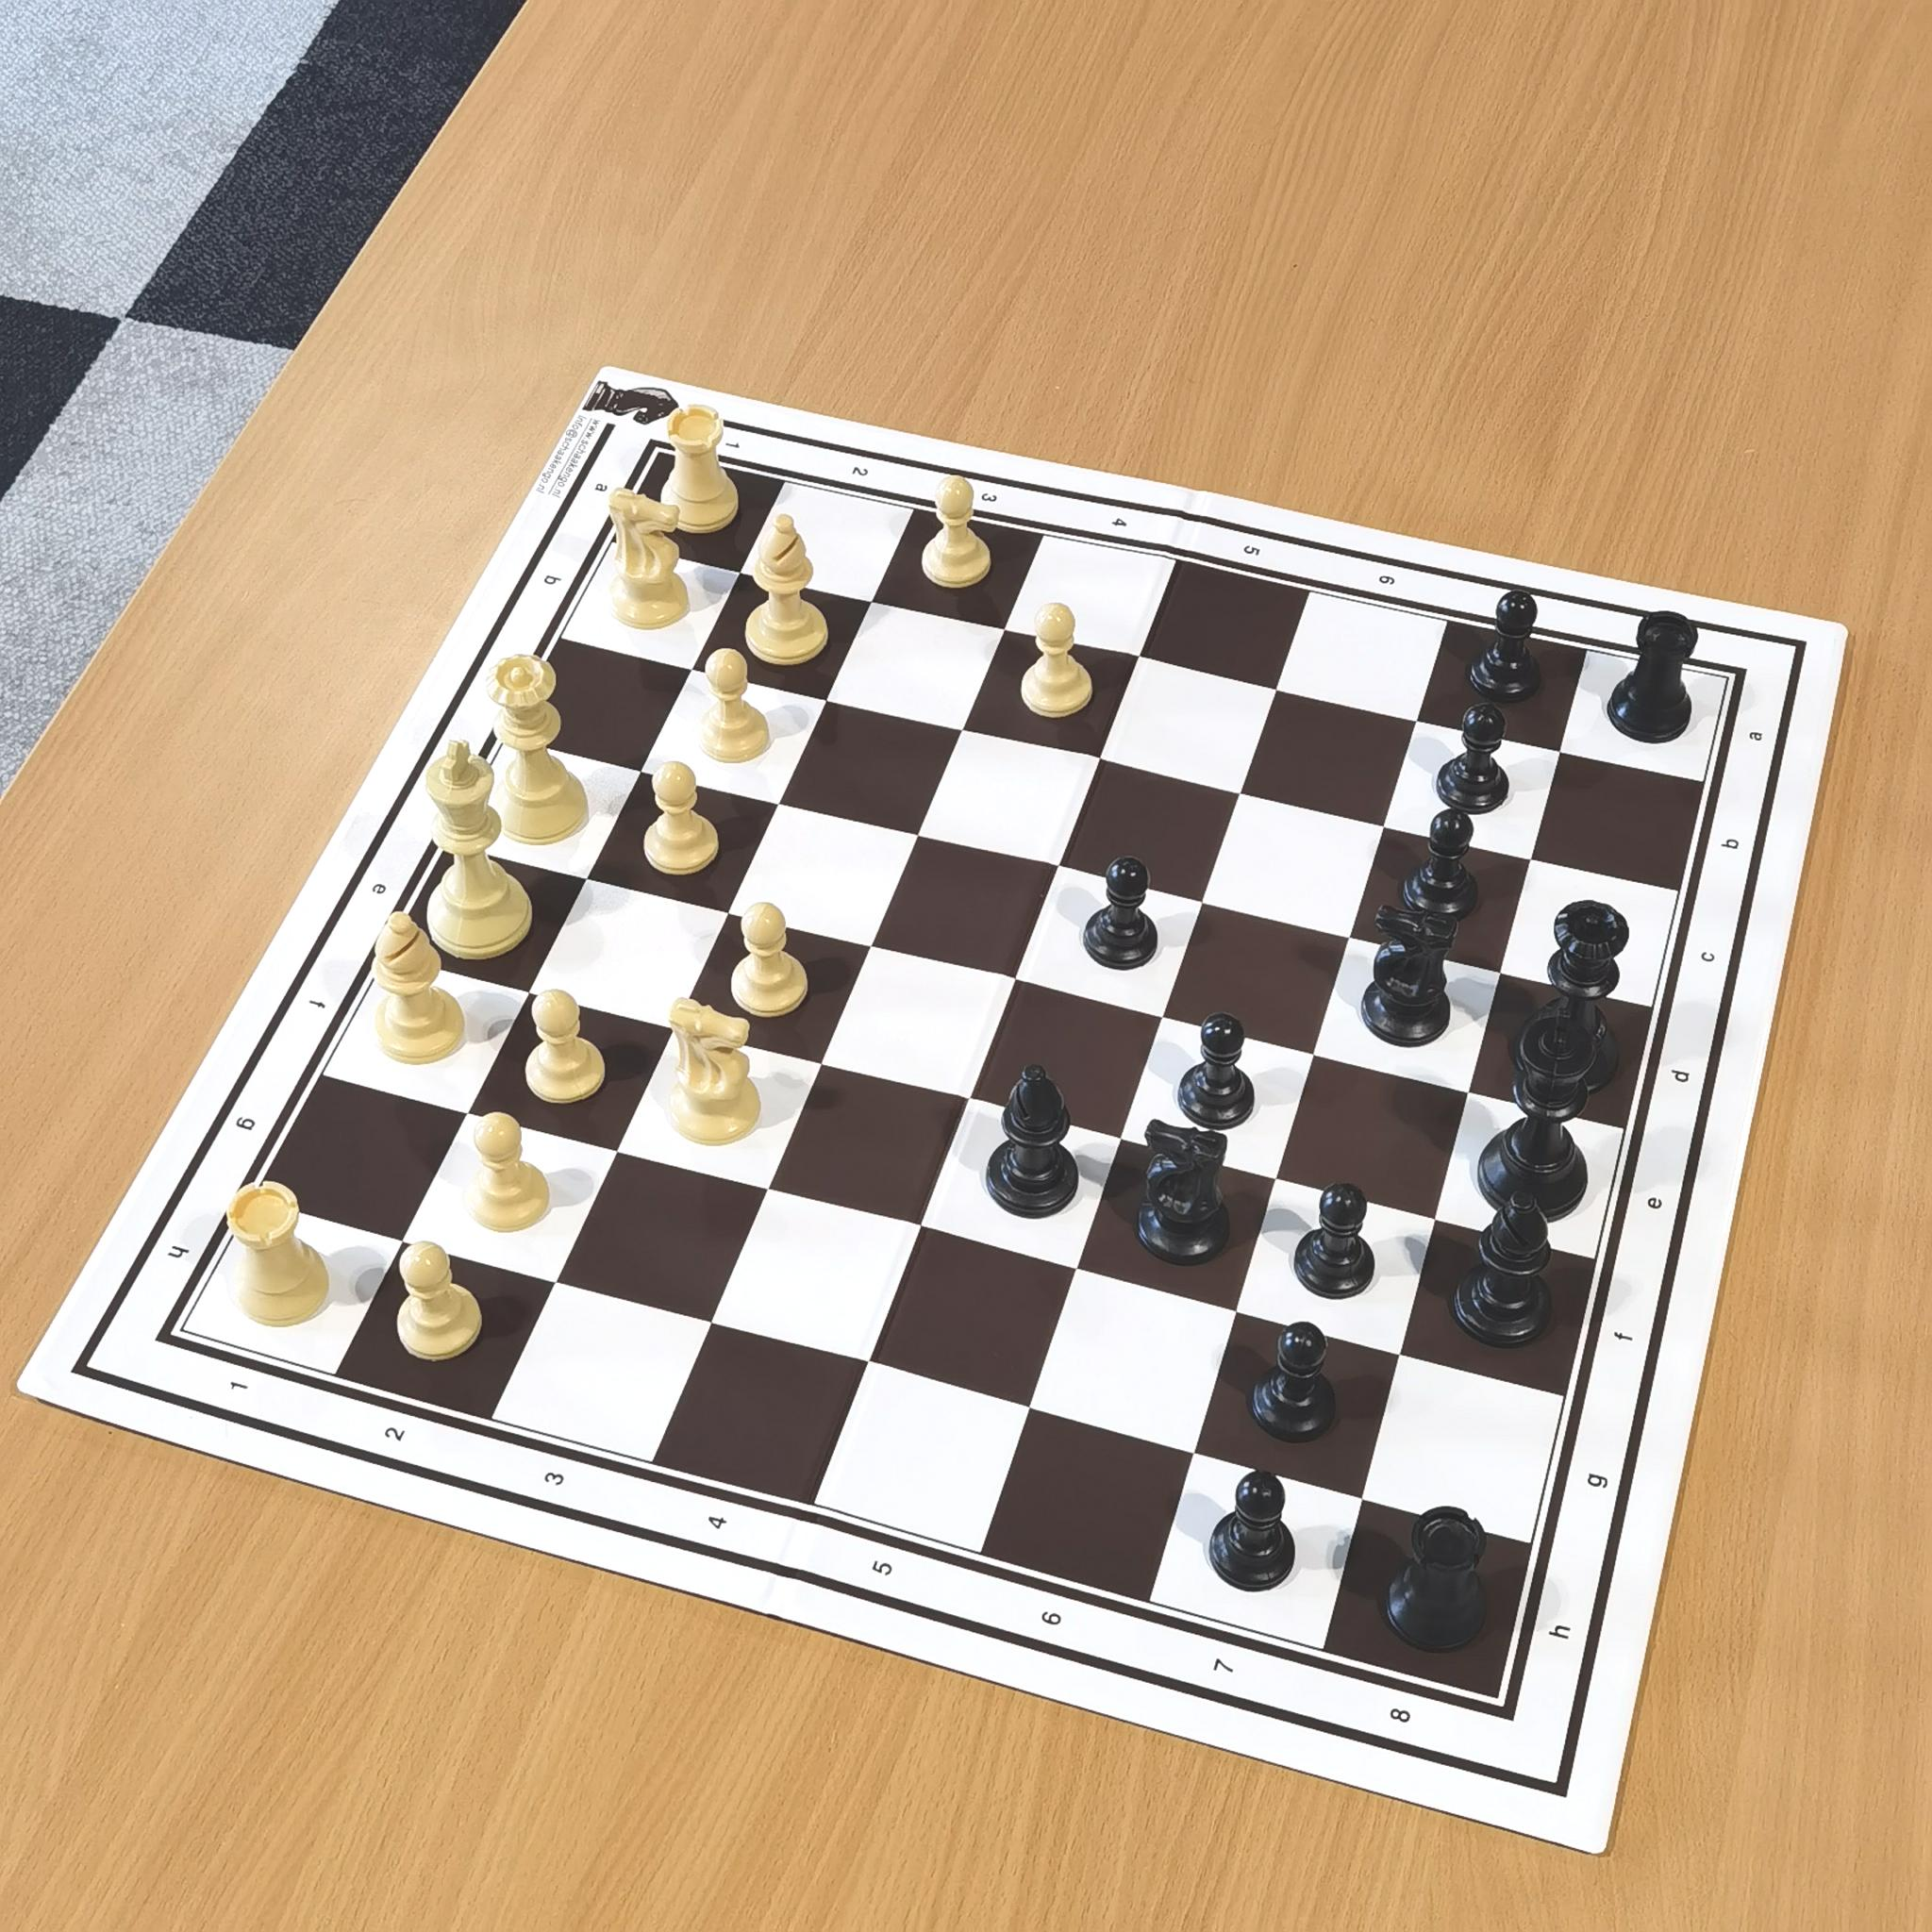corners: (1476, 1683, 1536, 1746), (131, 1318, 196, 1369), (1702, 658, 1762, 706), (646, 419, 699, 465)
eight: (1368, 1691, 1426, 1736), (1649, 625, 1695, 653)
one: (212, 1362, 262, 1412), (720, 426, 755, 465)
